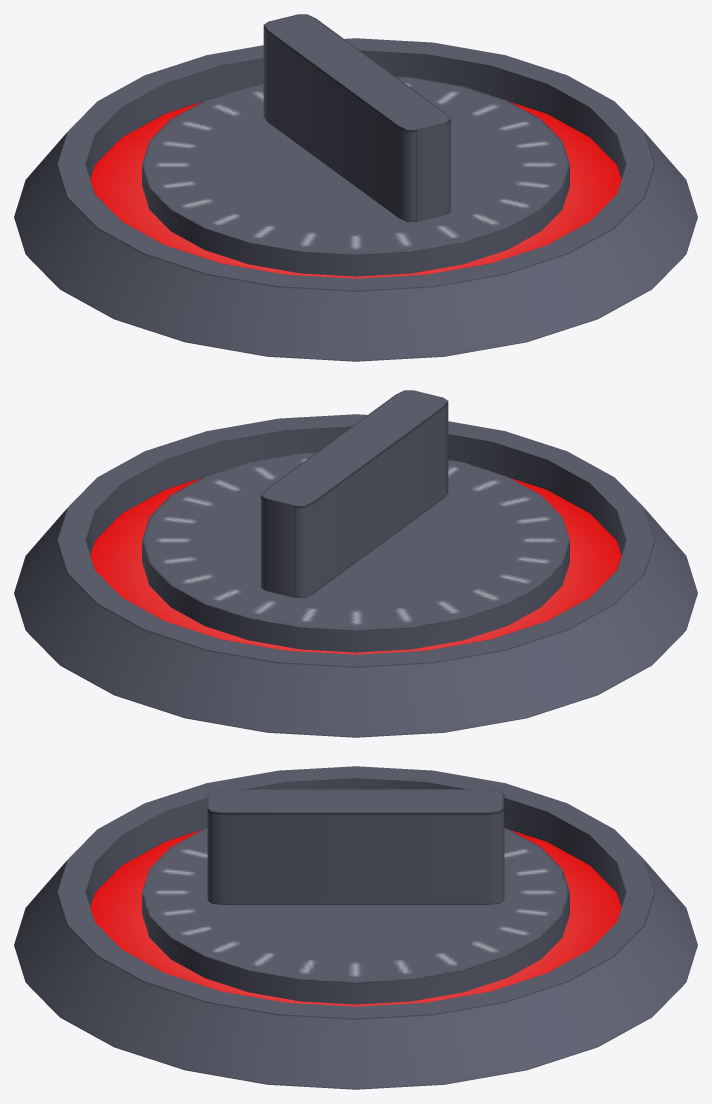
File: Button_Big_Circular_Red.FBX
3 views of the same model, one above another, from view 1: azimuth 30°, elevation 25°; view 2: azimuth 150°, elevation 25°; view 3: azimuth 270°, elevation 25° (orthographic).
Visible parts, largest first — view 1: Button_Big_Circular_Red, Turn_Me_On; view 2: Button_Big_Circular_Red, Turn_Me_On; view 3: Button_Big_Circular_Red, Turn_Me_On.
Boxes of the visible parts, x1,y1,x2,y2 form: Button_Big_Circular_Red: [14, 38, 697, 361]; Turn_Me_On: [142, 14, 569, 276]; Button_Big_Circular_Red: [14, 414, 697, 737]; Turn_Me_On: [142, 390, 569, 652]; Button_Big_Circular_Red: [14, 766, 697, 1089]; Turn_Me_On: [142, 789, 569, 1004].
Bounding box in the file's own units: 0.2964 × 0.0691 × 0.2964.
Materials: 1 (1 with a texture image).
